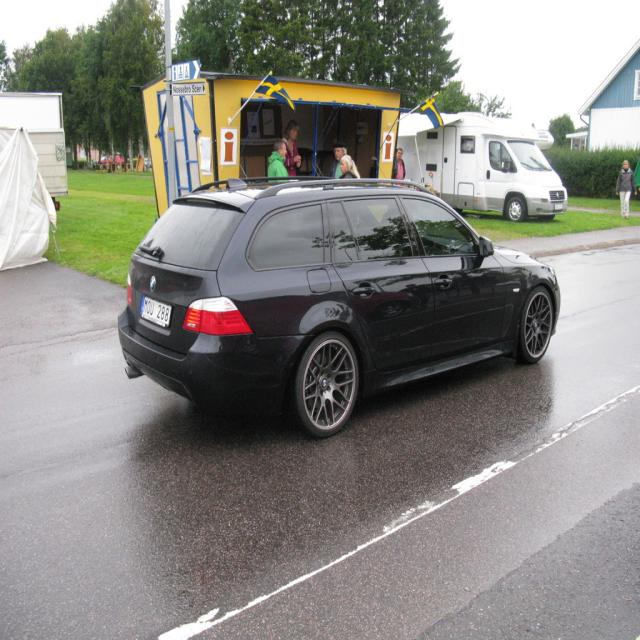car: (115, 175, 561, 441)
